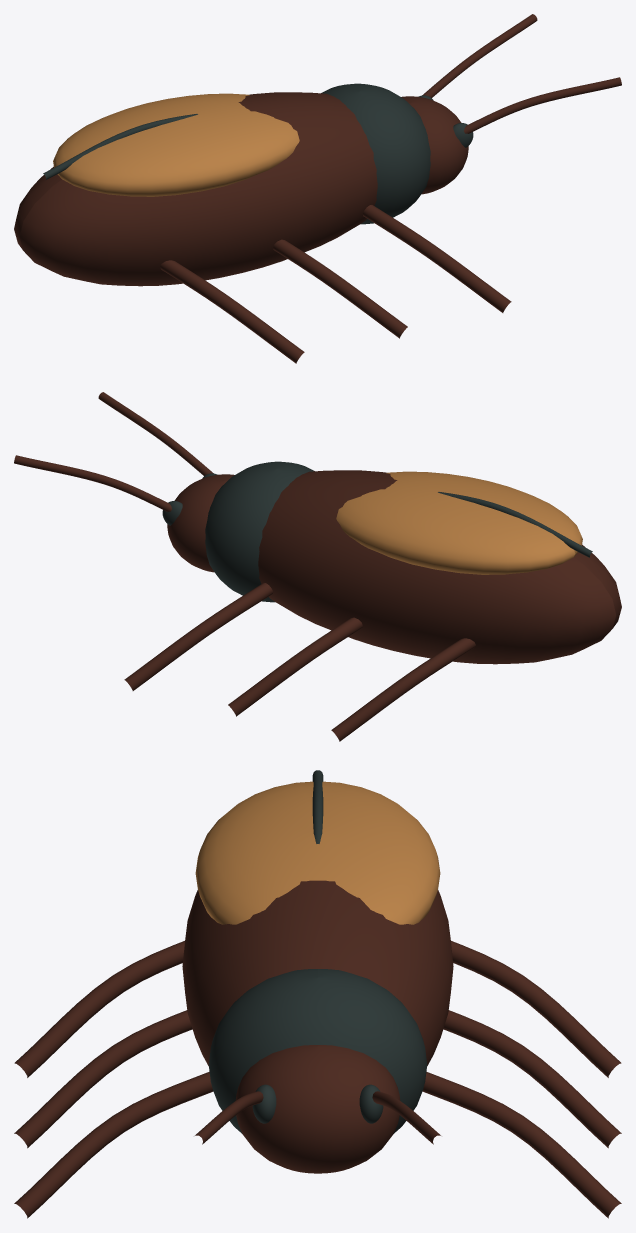
File: roach.glb
3 views of the same model, one above another, from view 1: azimuth 30°, elevation 25°; view 2: azimuth 150°, elevation 25°; view 3: azimuth 270°, elevation 25° (orthographic). The views are drawn at different scales.
Visible parts, largest first — view 1: coffee (×4), wood, dark; view 2: coffee (×4), wood, dark; view 3: coffee (×7), wood, dark.
Part boxes in pixels (<box>): coffee (×4): <box>14,14,621,363</box>; wood: <box>53,93,299,196</box>; dark: <box>43,83,473,224</box>; coffee (×4): <box>14,392,621,741</box>; wood: <box>336,471,582,574</box>; dark: <box>162,461,592,602</box>; coffee (×7): <box>14,880,621,1218</box>; wood: <box>195,781,440,924</box>; dark: <box>208,770,427,1133</box>.
Size of the model in its own units: 2.05 by 0.6083 by 1.39.
